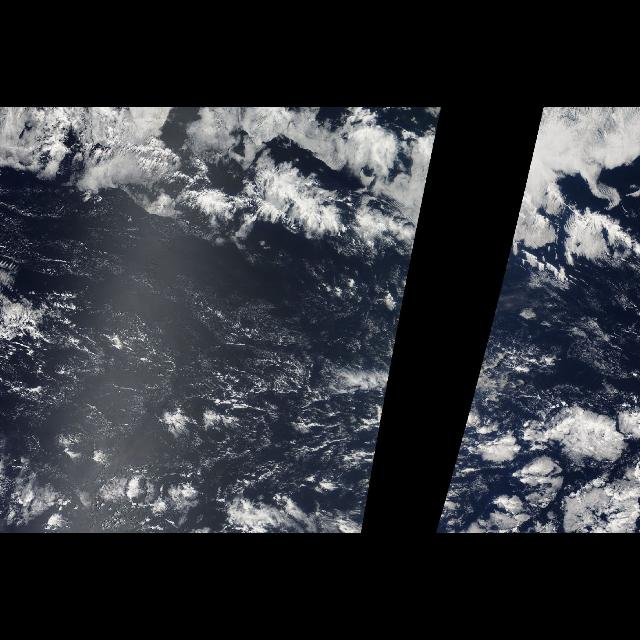Flower: (473, 393, 639, 532)
Sugar: (20, 236, 388, 498)
